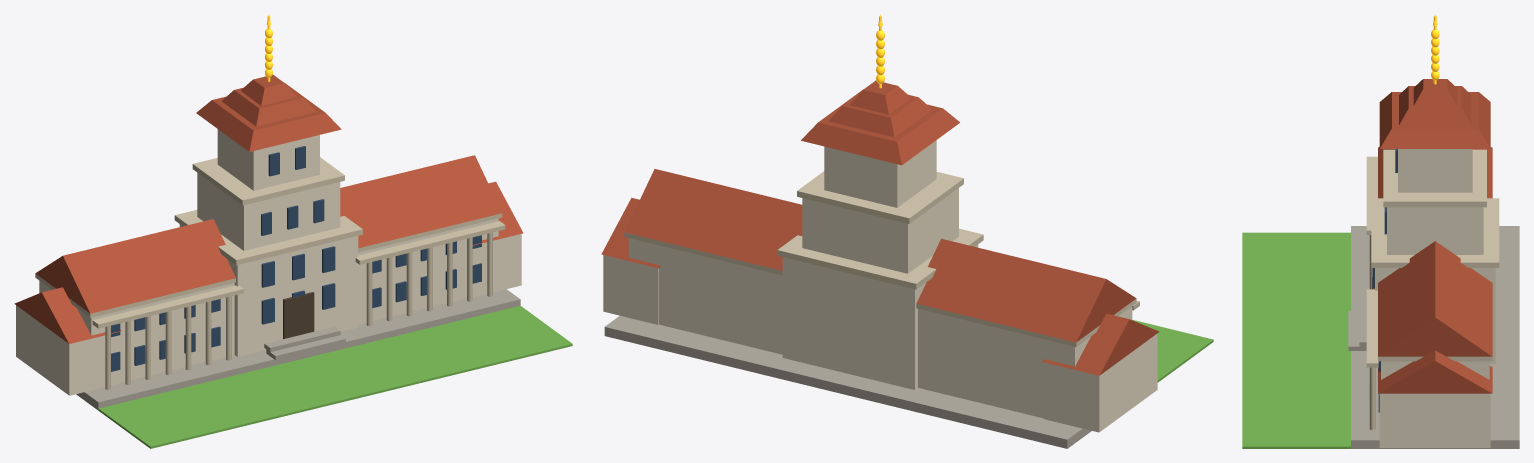
Rendered from gedung_sate.glb.
The picture shows the model from 3 angles, left to right: view 1: azimuth 30°, elevation 25°; view 2: azimuth 150°, elevation 25°; view 3: azimuth 270°, elevation 25°; orthographic projection. The views are drawn at different scales.
Parts seen in each view (by area): view 1: Rig; view 2: Rig; view 3: Rig.
Part boxes in pixels (box(x1,y1,x2,y2)): Rig: box(14, 14, 572, 448); Rig: box(601, 14, 1213, 448); Rig: box(1242, 15, 1519, 448).
Bounding box in the file's own units: 2.56 × 1.7 × 1.3.
